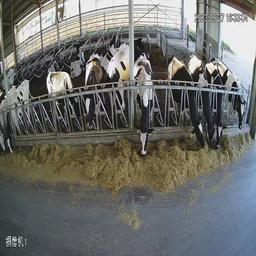cow: (165, 50, 205, 164), (187, 42, 217, 151), (37, 54, 74, 138), (133, 47, 157, 174), (4, 75, 32, 158), (218, 53, 247, 133), (78, 49, 103, 141), (105, 39, 129, 133), (208, 58, 224, 143), (71, 40, 87, 79)
